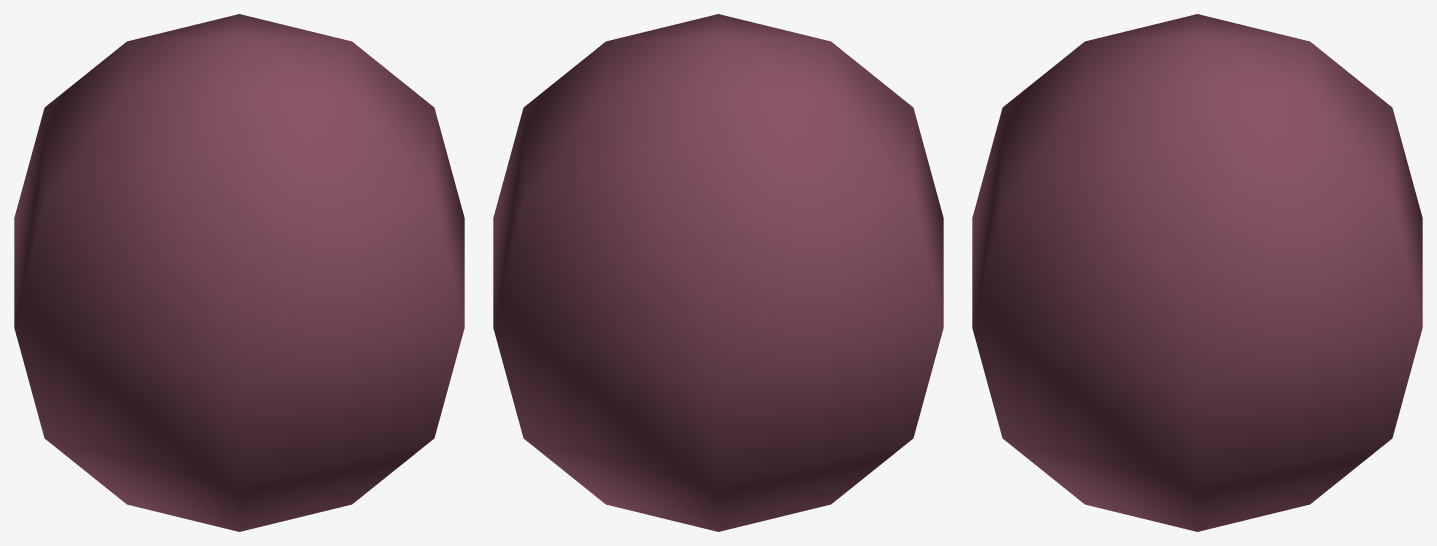
The model's file is orange.fbx.
3 views of the same model, side by side, from view 1: azimuth 30°, elevation 25°; view 2: azimuth 150°, elevation 25°; view 3: azimuth 270°, elevation 25° (orthographic).
Visible parts, largest first — view 1: apelsin2; view 2: apelsin2; view 3: apelsin2.
Part boxes in pixels (<box>): apelsin2: <box>14,14,464,531</box>; apelsin2: <box>493,14,943,531</box>; apelsin2: <box>972,14,1422,531</box>.
Size of the model in its own units: 0.294 by 0.294 by 0.2546.
